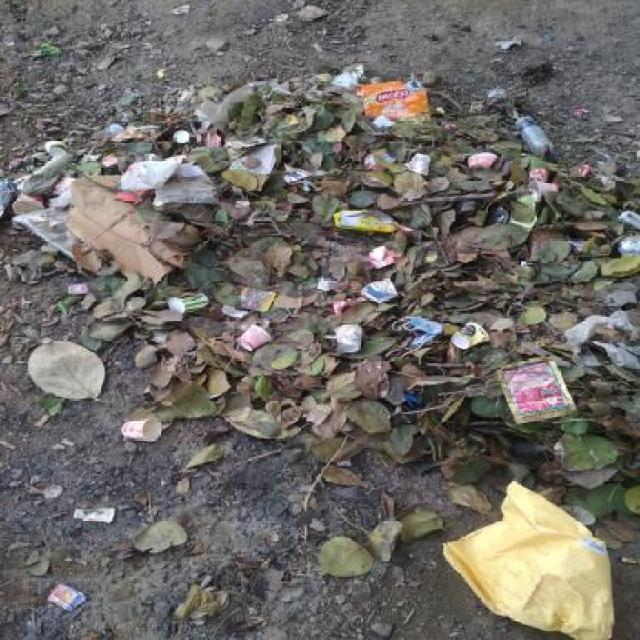garbage: (36, 296, 616, 623), (117, 63, 536, 279), (514, 111, 630, 324), (0, 137, 114, 314)
